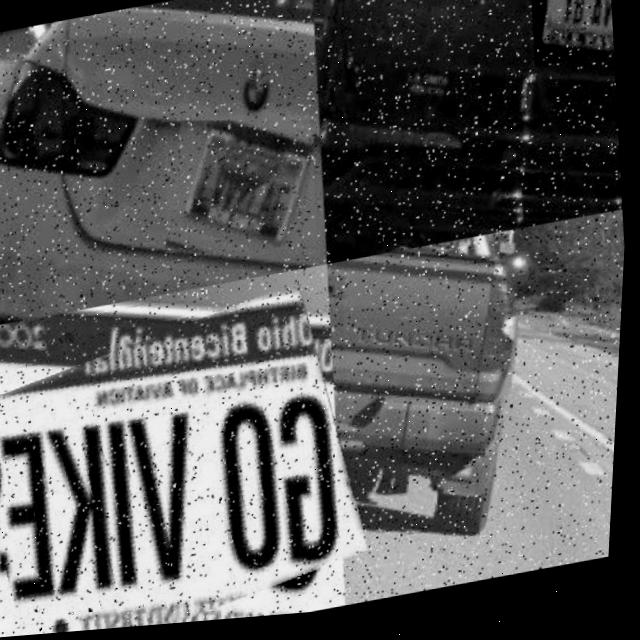LicensePlate: (0, 291, 378, 640), (158, 106, 326, 275), (535, 0, 613, 63)
